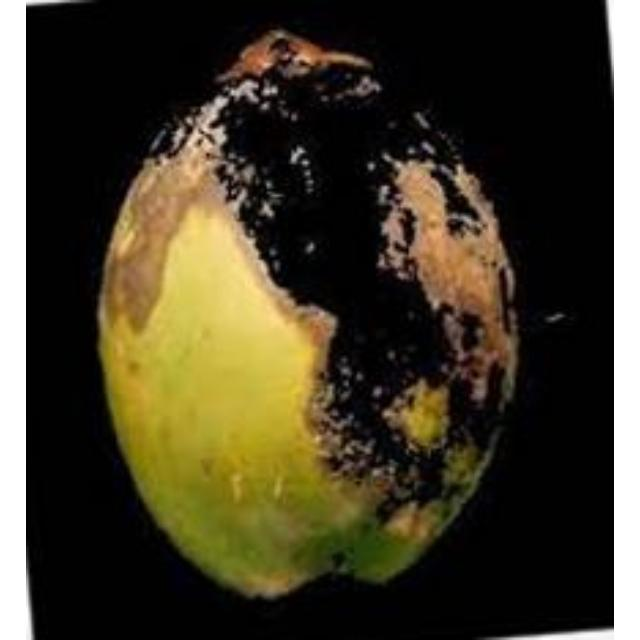damaged: (100, 27, 516, 602)
